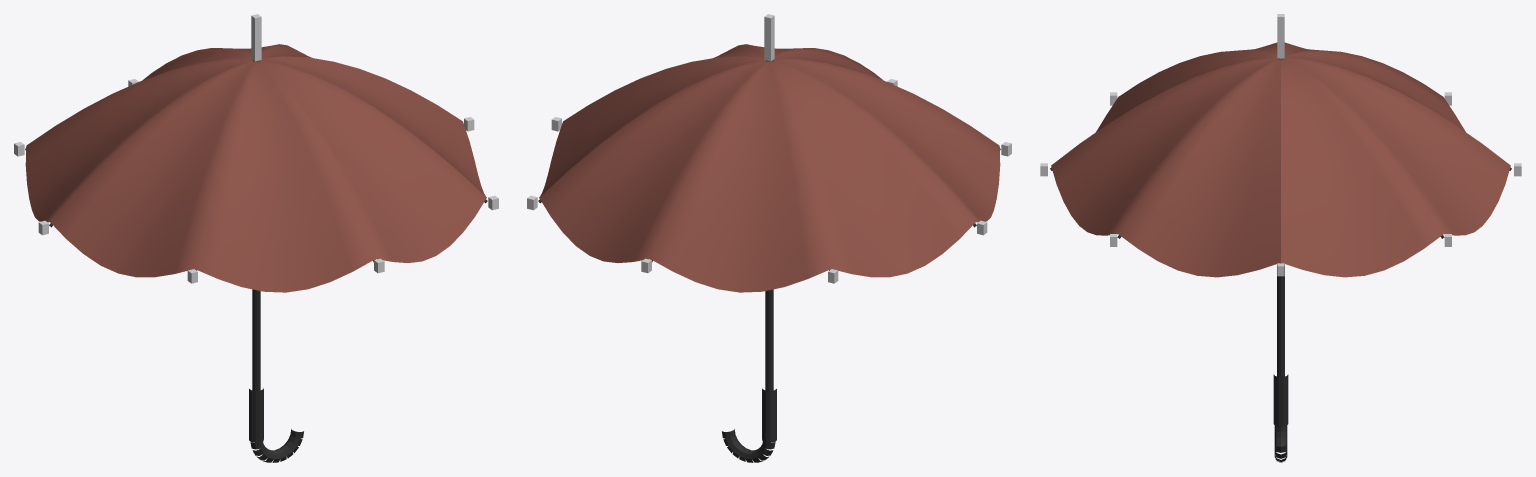
The model's file is xadrez.gltf.
The picture shows the model from 3 angles, left to right: view 1: azimuth 30°, elevation 25°; view 2: azimuth 150°, elevation 25°; view 3: azimuth 270°, elevation 25°; orthographic projection. The views are drawn at different scales.
Parts seen in each view (by area): view 1: carro; view 2: carro; view 3: carro.
Part boxes in pixels (left/top/right/bottom): carro: left=14, top=14, right=498, bottom=462; carro: left=527, top=14, right=1011, bottom=462; carro: left=1040, top=14, right=1521, bottom=462.
Bounding box in the file's own units: 1.05 × 1.04 × 1.05.
